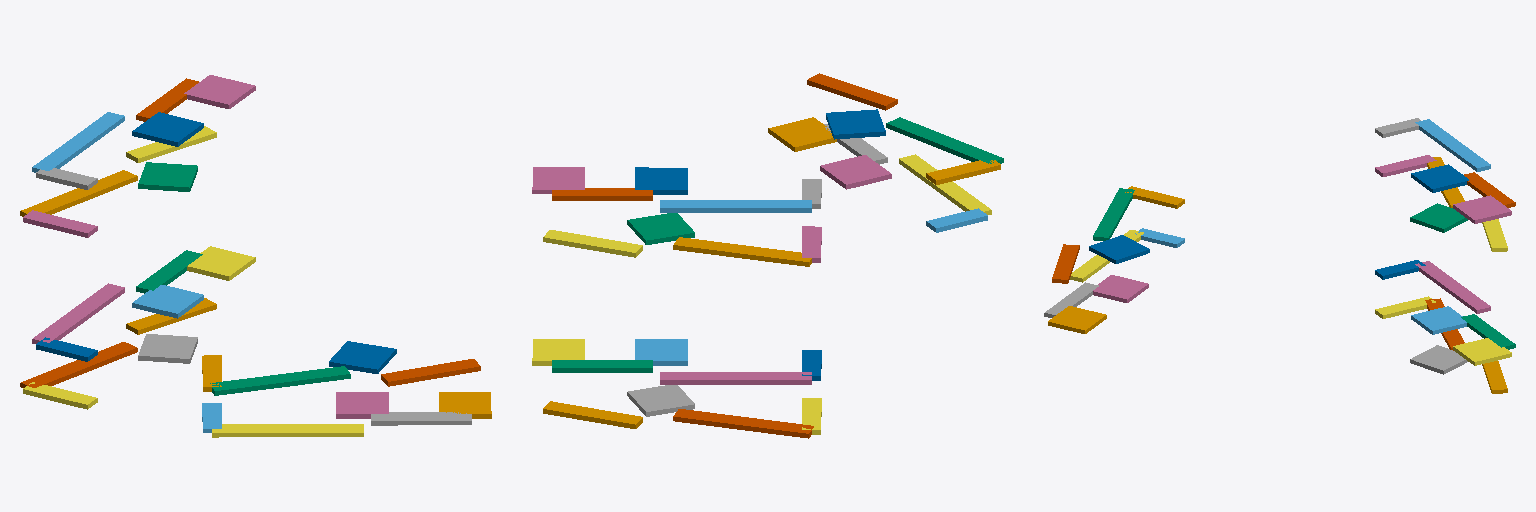
--- What the picture shows (computed from the rendered views, not written in the file) ---
3 views of the same robot in one strip: view 1: azimuth 30°, elevation 25°; view 2: azimuth 150°, elevation 25°; view 3: azimuth 270°, elevation 25° (orthographic).
Model abb_irb120_robotiq with 50 links and 49 joints (45 revolute, 4 fixed), rooted at world, posed all joints at 0.
Visible links, largest first — view 1: robotiq_finger_middle_link_paraproximal_bar, robotiq_finger_middle_link_proximal_actuating_bar, robotiq_finger_1_link_paraproximal_bar, robotiq_finger_2_link_paraproximal_bar, robotiq_finger_2_link_proximal_actuating_bar, robotiq_finger_1_link_paramedian_hinge, robotiq_finger_1_link_proximal_actuating_bar, robotiq_finger_1_link_paradistal_hinge, robotiq_finger_2_link_paramedian_hinge, robotiq_finger_middle_link_median_actuating_hinge, robotiq_finger_2_link_median_actuating_hinge, robotiq_finger_1_link_median_actuating_hinge (+15 smaller); view 2: robotiq_finger_1_link_paraproximal_bar, robotiq_finger_2_link_paraproximal_bar, robotiq_finger_2_link_proximal_actuating_bar, robotiq_finger_1_link_proximal_actuating_bar, robotiq_finger_middle_link_proximal_actuating_bar, robotiq_finger_middle_link_paramedian_hinge, robotiq_finger_1_link_median_actuating_hinge, robotiq_finger_2_link_median_actuating_hinge, robotiq_finger_middle_link_median_actuating_hinge, robotiq_finger_middle_link_paradistal_hinge, robotiq_finger_1_link_paramedian_hinge, robotiq_finger_middle_link_paraproximal_bar (+14 smaller); view 3: robotiq_finger_1_link_paraproximal_bar, robotiq_finger_2_link_paraproximal_bar, robotiq_finger_middle_link_median_actuating_hinge, robotiq_finger_1_link_paradistal_hinge, robotiq_finger_middle_link_paradistal_hinge, robotiq_finger_1_link_paramedian_hinge, robotiq_finger_2_link_paramedian_hinge, robotiq_finger_middle_link_paramedian_hinge, robotiq_finger_2_link_paradistal_hinge, robotiq_finger_1_link_median_actuating_hinge, robotiq_finger_2_link_median_actuating_hinge, robotiq_finger_middle_link_proximal_actuating_bar (+10 smaller).
Boxes of the visible links, x1,y1,x2,y2 form: robotiq_finger_middle_link_paraproximal_bar: (212, 424, 363, 437); robotiq_finger_middle_link_proximal_actuating_bar: (210, 366, 350, 395); robotiq_finger_1_link_paraproximal_bar: (32, 112, 124, 172); robotiq_finger_2_link_paraproximal_bar: (32, 283, 124, 343); robotiq_finger_2_link_proximal_actuating_bar: (20, 342, 137, 387); robotiq_finger_1_link_paramedian_hinge: (132, 112, 203, 146); robotiq_finger_1_link_proximal_actuating_bar: (20, 170, 137, 216); robotiq_finger_1_link_paradistal_hinge: (184, 75, 255, 108); robotiq_finger_2_link_paramedian_hinge: (132, 285, 203, 318); robotiq_finger_middle_link_median_actuating_hinge: (329, 341, 396, 373); robotiq_finger_2_link_median_actuating_hinge: (138, 334, 197, 363); robotiq_finger_1_link_median_actuating_hinge: (138, 162, 197, 191); robotiq_finger_1_link_paraproximal_bar: (660, 200, 811, 212); robotiq_finger_2_link_paraproximal_bar: (660, 372, 811, 384); robotiq_finger_2_link_proximal_actuating_bar: (673, 409, 813, 438); robotiq_finger_1_link_proximal_actuating_bar: (673, 237, 811, 266); robotiq_finger_middle_link_proximal_actuating_bar: (886, 117, 1003, 163); robotiq_finger_middle_link_paramedian_hinge: (820, 155, 891, 189); robotiq_finger_1_link_median_actuating_hinge: (627, 213, 694, 244); robotiq_finger_2_link_median_actuating_hinge: (627, 385, 694, 416); robotiq_finger_middle_link_median_actuating_hinge: (826, 109, 885, 139); robotiq_finger_middle_link_paradistal_hinge: (768, 117, 836, 151); robotiq_finger_1_link_paramedian_hinge: (635, 167, 687, 194); robotiq_finger_middle_link_paraproximal_bar: (899, 154, 991, 214); robotiq_finger_1_link_paraproximal_bar: (1415, 119, 1490, 171); robotiq_finger_2_link_paraproximal_bar: (1415, 261, 1490, 313); robotiq_finger_middle_link_median_actuating_hinge: (1089, 235, 1149, 263); robotiq_finger_1_link_paradistal_hinge: (1453, 195, 1511, 223); robotiq_finger_middle_link_paradistal_hinge: (1048, 306, 1106, 333); robotiq_finger_1_link_paramedian_hinge: (1411, 164, 1468, 192); robotiq_finger_2_link_paramedian_hinge: (1411, 306, 1466, 334); robotiq_finger_middle_link_paramedian_hinge: (1093, 275, 1148, 302); robotiq_finger_2_link_paradistal_hinge: (1453, 338, 1511, 365); robotiq_finger_1_link_median_actuating_hinge: (1410, 203, 1467, 232); robotiq_finger_2_link_median_actuating_hinge: (1410, 345, 1467, 374); robotiq_finger_middle_link_proximal_actuating_bar: (1093, 188, 1134, 240).
Size in the robot's own frame: 0.1145 by 0.2168 by 0.094 metres.
Meshes: 12 distinct files referenced, 0 mesh visuals loaded (none loaded); not drawn: 20 (reference not matched to a file when rendering).

URDF robot description (abb_irb120_robotiq):
<?xml version="1.0" ?>
<!-- =================================================================================== -->
<!-- |    This document was autogenerated by xacro from irb120_robotiq.xacro           | -->
<!-- |    EDITING THIS FILE BY HAND IS NOT RECOMMENDED                                 | -->
<!-- =================================================================================== -->
<robot name="abb_irb120_robotiq" xmlns:xacro="http://www.ros.org/wiki/xacro">
  <link name="robot_base_link">
    <inertial>
      <mass value="6.215"/>
      <origin rpy="0 0 0" xyz="-0.04204 8.01E-05 0.07964"/>
      <inertia ixx="0.0247272" ixy="-8.0784E-05" ixz="0.00130902" iyy="0.0491285" iyz="-8.0419E-06" izz="0.0472376"/>
    </inertial>
    <visual>
      <origin rpy="0 0 0" xyz="0 0 0"/>
      <geometry>
        <mesh filename="package://abb_irb120_support/meshes/irb120/visual/base_link.stl"/>
      </geometry>
      <material name="abb_orange">
        <color rgba="1 0.43 0 1"/>
      </material>
    </visual>
    <collision>
      <origin rpy="0 0 0" xyz="0 0 0"/>
      <geometry>
        <mesh filename="package://abb_irb120_support/meshes/irb120/collision/base_link.stl"/>
      </geometry>
      <material name="yellow">
        <color rgba="0 1 1 1"/>
      </material>
    </collision>
  </link>
  <link name="robot_link_1">
    <inertial>
      <mass value="3.067"/>
      <origin rpy="0 0 0" xyz="9.77E-05 -0.00012 0.23841"/>
      <inertia ixx="0.0142175" ixy="-1.28579E-05" ixz="-2.31364E-05" iyy="0.0144041" iyz="1.93404E-05" izz="0.0104533"/>
    </inertial>
    <visual>
      <origin rpy="0 0 0" xyz="0 0 0"/>
      <geometry>
        <mesh filename="package://abb_irb120_support/meshes/irb120/visual/link_1.stl"/>
      </geometry>
      <material name="abb_orange"/>
    </visual>
    <collision>
      <origin rpy="0 0 0" xyz="0 0 0"/>
      <geometry>
        <mesh filename="package://abb_irb120_support/meshes/irb120/collision/link_1.stl"/>
      </geometry>
      <material name="yellow"/>
    </collision>
  </link>
  <link name="robot_link_2">
    <inertial>
      <mass value="3.909"/>
      <origin rpy="0 0 0" xyz="0.00078 -0.00212 0.10124"/>
      <inertia ixx="0.0603111" ixy="9.83431E-06" ixz="5.72407E-05" iyy="0.041569" iyz="-0.00050497" izz="0.0259548"/>
    </inertial>
    <visual>
      <origin rpy="0 0 0" xyz="0 0 0"/>
      <geometry>
        <mesh filename="package://abb_irb120_support/meshes/irb120/visual/link_2.stl"/>
      </geometry>
      <material name="abb_orange"/>
    </visual>
    <collision>
      <origin rpy="0 0 0" xyz="0 0 0"/>
      <geometry>
        <mesh filename="package://abb_irb120_support/meshes/irb120/collision/link_2.stl"/>
      </geometry>
      <material name="yellow"/>
    </collision>
  </link>
  <link name="robot_link_3">
    <inertial>
      <mass value="2.944"/>
      <origin rpy="0 0 0" xyz="0.02281 0.00106 0.05791"/>
      <inertia ixx="0.00835606" ixy="-8.01545E-05" ixz="0.00142884" iyy="0.016713" iyz="-0.000182227" izz="0.0126984"/>
    </inertial>
    <visual>
      <origin rpy="0 0 0" xyz="0 0 0"/>
      <geometry>
        <mesh filename="package://abb_irb120_support/meshes/irb120/visual/link_3.stl"/>
      </geometry>
      <material name="abb_orange"/>
    </visual>
    <collision>
      <origin rpy="0 0 0" xyz="0 0 0"/>
      <geometry>
        <mesh filename="package://abb_irb120_support/meshes/irb120/collision/link_3.stl"/>
      </geometry>
      <material name="yellow"/>
    </collision>
  </link>
  <link name="robot_link_4">
    <inertial>
      <mass value="1.328"/>
      <origin rpy="0 0 0" xyz="0.2247 0.00015 0.00041"/>
      <inertia ixx="0.00284661" ixy="-2.12765E-05" ixz="-1.6435E-05" iyy="0.00401346" iyz="1.31336E-05" izz="0.0052535"/>
    </inertial>
    <visual>
      <origin rpy="0 0 0" xyz="0 0 0"/>
      <geometry>
        <mesh filename="package://abb_irb120_support/meshes/irb120/visual/link_4.stl"/>
      </geometry>
      <material name="abb_orange"/>
    </visual>
    <collision>
      <origin rpy="0 0 0" xyz="0 0 0"/>
      <geometry>
        <mesh filename="package://abb_irb120_support/meshes/irb120/collision/link_4.stl"/>
      </geometry>
      <material name="yellow"/>
    </collision>
  </link>
  <link name="robot_link_5">
    <inertial>
      <mass value="0.546"/>
      <origin rpy="0 0 0" xyz="-0.00109 3.68E-05 6.22E-05"/>
      <inertia ixx="0.000404891" ixy="1.61943E-06" ixz="8.46805E-07" iyy="0.000892825" iyz="-1.51792E-08" izz="0.000815468"/>
    </inertial>
    <visual>
      <origin rpy="0 0 0" xyz="0 0 0"/>
      <geometry>
        <mesh filename="package://abb_irb120_support/meshes/irb120/visual/link_5.stl"/>
      </geometry>
      <material name="abb_orange"/>
    </visual>
    <collision>
      <origin rpy="0 0 0" xyz="0 0 0"/>
      <geometry>
        <mesh filename="package://abb_irb120_support/meshes/irb120/collision/link_5.stl"/>
      </geometry>
      <material name="yellow"/>
    </collision>
  </link>
  <link name="robot_link_6">
    <inertial>
      <mass value="0.137"/>
      <origin rpy="0 0 0" xyz="-0.00706 -0.00017 -1.32E-06"/>
      <inertia ixx="0.001" ixy="0" ixz="0" iyy="0.001" iyz="0" izz="0.001"/>
    </inertial>
    <visual>
      <origin rpy="0 0 0" xyz="0 0 0"/>
      <geometry>
        <mesh filename="package://abb_irb120_support/meshes/irb120/visual/link_6.stl"/>
      </geometry>
      <material name="black">
        <color rgba="0 0 0 1"/>
      </material>
    </visual>
    <collision>
      <origin rpy="0 0 0" xyz="0 0 0"/>
      <geometry>
        <mesh filename="package://abb_irb120_support/meshes/irb120/collision/link_6.stl"/>
      </geometry>
      <material name="yellow"/>
    </collision>
  </link>
  <link name="robot_tool0"/>
  <joint name="robot_joint_1" type="revolute">
    <origin rpy="0 0 0" xyz="0 0 0"/>
    <parent link="robot_base_link"/>
    <child link="robot_link_1"/>
    <limit effort="100" lower="-2.87979" upper="2.87979" velocity="4.36332"/>
    <axis xyz="0 0 1"/>
    <dynamics damping="0.0" friction="0.0"/>
  </joint>
  <joint name="robot_joint_2" type="revolute">
    <origin rpy="0 0 0" xyz="0 0 0.29"/>
    <parent link="robot_link_1"/>
    <child link="robot_link_2"/>
    <limit effort="100" lower="-1.91986" upper="1.91986" velocity="4.36332"/>
    <axis xyz="0 1 0"/>
    <dynamics damping="0.0" friction="0.0"/>
  </joint>
  <joint name="robot_joint_3" type="revolute">
    <origin rpy="0 0 0" xyz="0 0 0.27"/>
    <parent link="robot_link_2"/>
    <child link="robot_link_3"/>
    <limit effort="100" lower="-1.91986" upper="1.22173" velocity="4.36332"/>
    <axis xyz="0 1 0"/>
    <dynamics damping="0.0" friction="0.0"/>
  </joint>
  <joint name="robot_joint_4" type="revolute">
    <origin rpy="0 0 0" xyz="0 0 0.07"/>
    <parent link="robot_link_3"/>
    <child link="robot_link_4"/>
    <limit effort="30" lower="-2.79253" upper="2.79253" velocity="5.58505"/>
    <axis xyz="1 0 0"/>
    <dynamics damping="0.0" friction="0.0"/>
  </joint>
  <joint name="robot_joint_5" type="revolute">
    <origin rpy="0 0 0" xyz="0.302 0 0"/>
    <parent link="robot_link_4"/>
    <child link="robot_link_5"/>
    <limit effort="30" lower="-2.094395" upper="2.094395" velocity="5.58505"/>
    <axis xyz="0 1 0"/>
    <dynamics damping="0.0" friction="0.0"/>
  </joint>
  <joint name="robot_joint_6" type="revolute">
    <origin rpy="0 0 0" xyz="0.072 0 0"/>
    <parent link="robot_link_5"/>
    <child link="robot_link_6"/>
    <limit effort="30" lower="-6.98132" upper="6.98132" velocity="7.33038"/>
    <axis xyz="1 0 0"/>
    <dynamics damping="0.0" friction="0.0"/>
  </joint>
  <joint name="robot_joint6-tool0" type="fixed">
    <parent link="robot_link_6"/>
    <child link="robot_tool0"/>
    <origin rpy="0 0 0" xyz="0 0 0"/>
  </joint>
  <link name="robot_base"/>
  <joint name="robot_base_link-base" type="fixed">
    <origin rpy="0 0 0" xyz="0 0 0"/>
    <parent link="robot_base_link"/>
    <child link="robot_base"/>
  </joint>
  <transmission name="robot_tran1">
    <type>transmission_interface/SimpleTransmission</type>
    <joint name="robot_joint_1">
      <hardwareInterface>EffortJointInterface</hardwareInterface>
    </joint>
    <actuator name="robot_motor1">
      <hardwareInterface>EffortJointInterface</hardwareInterface>
      <mechanicalReduction>1</mechanicalReduction>
    </actuator>
  </transmission>
  <transmission name="robot_tran2">
    <type>transmission_interface/SimpleTransmission</type>
    <joint name="robot_joint_2">
      <hardwareInterface>EffortJointInterface</hardwareInterface>
    </joint>
    <actuator name="robot_motor2">
      <hardwareInterface>EffortJointInterface</hardwareInterface>
      <mechanicalReduction>1</mechanicalReduction>
    </actuator>
  </transmission>
  <transmission name="robot_tran3">
    <type>transmission_interface/SimpleTransmission</type>
    <joint name="robot_joint_3">
      <hardwareInterface>EffortJointInterface</hardwareInterface>
    </joint>
    <actuator name="robot_motor3">
      <hardwareInterface>EffortJointInterface</hardwareInterface>
      <mechanicalReduction>1</mechanicalReduction>
    </actuator>
  </transmission>
  <transmission name="robot_tran4">
    <type>transmission_interface/SimpleTransmission</type>
    <joint name="robot_joint_4">
      <hardwareInterface>EffortJointInterface</hardwareInterface>
    </joint>
    <actuator name="robot_motor4">
      <hardwareInterface>EffortJointInterface</hardwareInterface>
      <mechanicalReduction>1</mechanicalReduction>
    </actuator>
  </transmission>
  <transmission name="robot_tran5">
    <type>transmission_interface/SimpleTransmission</type>
    <joint name="robot_joint_5">
      <hardwareInterface>EffortJointInterface</hardwareInterface>
    </joint>
    <actuator name="robot_motor5">
      <hardwareInterface>EffortJointInterface</hardwareInterface>
      <mechanicalReduction>1</mechanicalReduction>
    </actuator>
  </transmission>
  <transmission name="robot_tran6">
    <type>transmission_interface/SimpleTransmission</type>
    <joint name="robot_joint_6">
      <hardwareInterface>EffortJointInterface</hardwareInterface>
    </joint>
    <actuator name="robot_motor6">
      <hardwareInterface>EffortJointInterface</hardwareInterface>
      <mechanicalReduction>1</mechanicalReduction>
    </actuator>
  </transmission>
  <gazebo reference="robot_base_link">
    <material>Gazebo/Orange</material>
    <turnGravityOff>true</turnGravityOff>
  </gazebo>
  <gazebo reference="robot_link_1">
    <material>Gazebo/Orange</material>
    <turnGravityOff>true</turnGravityOff>
  </gazebo>
  <gazebo reference="robot_link_2">
    <material>Gazebo/Orange</material>
    <turnGravityOff>true</turnGravityOff>
  </gazebo>
  <gazebo reference="robot_link_3">
    <material>Gazebo/Orange</material>
    <turnGravityOff>true</turnGravityOff>
  </gazebo>
  <gazebo reference="robot_link_4">
    <material>Gazebo/Orange</material>
    <turnGravityOff>true</turnGravityOff>
  </gazebo>
  <gazebo reference="robot_link_5">
    <material>Gazebo/Orange</material>
    <turnGravityOff>true</turnGravityOff>
  </gazebo>
  <gazebo reference="robot_link_6">
    <material>Gazebo/Black</material>
    <turnGravityOff>true</turnGravityOff>
  </gazebo>
  <gazebo>
    <plugin filename="libgazebo_ros_control.so" name="gazebo_ros_control">
      <robotNamespace>/</robotNamespace>
      <robotSimType>gazebo_ros_control/DefaultRobotHWSim</robotSimType>
    </plugin>
  </gazebo>
  <link name="world"/>
  <joint name="robot_fixed" type="fixed">
    <parent link="world"/>
    <child link="robot_base_link"/>
  </joint>
  <joint name="robotiq_robotiq_hand_joint" type="fixed">
    <origin rpy="0 0 -1.57079632679" xyz="0.054 0 0"/>
    <parent link="robot_tool0"/>
    <child link="robotiq_palm"/>
  </joint>
  <link name="robotiq_finger_1_link_0">
    <visual>
      <origin rpy="0 0 0" xyz="0 0 0"/>
      <geometry>
        <mesh filename="package://robotiq_s_model_visualization/meshes/s-model_articulated/visual/link_0.STL"/>
      </geometry>
      <material name="green">
        <color rgba="0 1 0 1"/>
      </material>
    </visual>
    <collision>
      <origin rpy="0 0 0" xyz="0 0 0"/>
      <geometry>
        <mesh filename="package://robotiq_s_model_visualization/meshes/s-model_articulated/collision/link_0.STL"/>
      </geometry>
      <material name="yellow">
        <color rgba="0 1 1 1"/>
      </material>
    </collision>
    <inertial>
      <mass value="0.1"/>
      <origin xyz="-0.01 0 0"/>
      <inertia ixx="0.000018" ixy="0" ixz="0" iyy="0.000025" iyz="0" izz="0.000025"/>
    </inertial>
  </link>
  <gazebo reference="robotiq_finger_1_link_0">
    <mu1>1.1</mu1>
    <mu2>1.1</mu2>
  </gazebo>
  <link name="robotiq_finger_1_link_1">
    <visual>
      <origin rpy="0 0 1.5708" xyz="0 0.05717 0"/>
      <geometry>
        <mesh filename="package://robotiq_s_model_visualization/meshes/s-model_articulated/visual/link_1.STL"/>
      </geometry>
      <material name="green"/>
    </visual>
    <collision>
      <origin rpy="0 0 1.5708" xyz="0 0.05717 0"/>
      <geometry>
        <mesh filename="package://robotiq_s_model_visualization/meshes/s-model_articulated/collision/link_1.STL"/>
      </geometry>
      <material name="yellow">
        <color rgba="0 1 1 1"/>
      </material>
    </collision>
    <inertial>
      <origin rpy="0 0 1.5708" xyz="0.00053 0.03218 0"/>
      <mass value="0.047"/>
      <inertia ixx="0.00000499332" ixy="0.00000091312" ixz="-0.00000000120" iyy="0.00006434531" iyz="-0.00000000007" izz="0.00006061917"/>
    </inertial>
  </link>
  <gazebo reference="robotiq_finger_1_link_1">
    <mu1>1.1</mu1>
    <mu2>1.1</mu2>
  </gazebo>
  <link name="robotiq_finger_1_link_2">
    <visual>
      <origin rpy="0 0 1.5708" xyz="0 0.03810 0.0075"/>
      <geometry>
        <mesh filename="package://robotiq_s_model_visualization/meshes/s-model_articulated/visual/link_2.STL"/>
      </geometry>
      <material name="green"/>
    </visual>
    <collision>
      <origin rpy="0 0 1.5708" xyz="0 0.03810 0.0075"/>
      <geometry>
        <mesh filename="package://robotiq_s_model_visualization/meshes/s-model_articulated/collision/link_2.STL"/>
      </geometry>
      <material name="yellow"/>
    </collision>
    <inertial>
      <origin rpy="0 0 1.5708" xyz="0.00048 0.02167 0.00018"/>
      <mass value="0.03284"/>
      <inertia ixx="0.00000348008" ixy="0.00000031940" ixz="0.00000013041" iyy="0.00002248123" iyz="0.00000000291" izz="0.00001986346"/>
    </inertial>
  </link>
  <gazebo reference="robotiq_finger_1_link_2">
    <mu1>1.1</mu1>
    <mu2>1.1</mu2>
  </gazebo>
  <link name="robotiq_finger_1_link_3">
    <visual>
      <origin rpy="0 0 0" xyz="0 0 0"/>
      <geometry>
        <mesh filename="package://robotiq_s_model_visualization/meshes/s-model_articulated/visual/link_3.STL"/>
      </geometry>
      <material name="green"/>
    </visual>
    <collision>
      <origin rpy="0 0 0" xyz="0 0 0"/>
      <geometry>
        <mesh filename="package://robotiq_s_model_visualization/meshes/s-model_articulated/collision/link_3.STL"/>
      </geometry>
      <material name="yellow"/>
    </collision>
    <inertial>
      <origin rpy="0 0 0" xyz="0.01626 0.00049 0.0002"/>
      <mass value="0.03354"/>
      <inertia ixx="0.00000305151" ixy="0.00000089792" ixz="0.00000000249" iyy="0.00001427978" iyz="-0.00000001191" izz="0.00001264126"/>
    </inertial>
  </link>
  <gazebo reference="robotiq_finger_1_link_3">
    <mu1>1.1</mu1>
    <mu2>1.1</mu2>
  </gazebo>
  <link name="robotiq_finger_1_link_proximal_actuating_hinge">
    <visual>
      <origin rpy="0 0 0" xyz="0.01429 0 0"/>
      <geometry>
        <box size="0.02858 .0075 .002"/>
      </geometry>
    </visual>
    <collision>
      <origin rpy="0 0 0" xyz="0.01429 0 0"/>
      <geometry>
        <box size="0.02858 .0075 .002"/>
      </geometry>
    </collision>
    <inertial>
      <origin rpy="0 0 0" xyz="0.0012 -0.00162 -0.00161"/>
      <mass value="0.02647"/>
      <inertia ixx="0.00000156447" ixy="0.000000236226" ixz="-0.00000014862" iyy="0.00000221068" iyz="-0.00000014369" izz="0.00000323175"/>
    </inertial>
  </link>
  <gazebo reference="robotiq_finger_1_link_proximal_actuating_hinge">
    <mu1>1.1</mu1>
    <mu2>1.1</mu2>
  </gazebo>
  <link name="robotiq_finger_1_link_paraproximal_actuating_hinge">
    <visual>
      <origin rpy="0 0 0" xyz="0.01143 0 0"/>
      <geometry>
        <box size="0.02286 .0075 .002"/>
      </geometry>
    </visual>
    <collision>
      <origin rpy="0 0 0" xyz="0.01143 0 0"/>
      <geometry>
        <box size="0.02286 .0075 .002"/>
      </geometry>
    </collision>
    <inertial>
      <origin rpy="0 0 0" xyz="0.0064 0 0"/>
      <!-- copied from proximal_actuating_hinge -->
      <mass value="0.00362"/>
      <inertia ixx="0.00000012043" ixy="0" ixz="0" iyy="0.00000053588" iyz="0" izz="0.00000065322"/>
    </inertial>
  </link>
  <gazebo reference="robotiq_finger_1_link_paraproximal_actuating_hinge">
    <mu1>1.1</mu1>
    <mu2>1.1</mu2>
  </gazebo>
  <link name="robotiq_finger_1_link_proximal_actuating_bar">
    <visual>
      <origin rpy="0 0 0" xyz="0.026789 0 0"/>
      <geometry>
        <box size="0.05398 .0075 .002"/>
      </geometry>
    </visual>
    <collision>
      <origin rpy="0 0 0" xyz="0.026789 0 0"/>
      <geometry>
        <box size="0.05398 .0075 .002"/>
      </geometry>
    </collision>
    <inertial>
      <origin rpy="0 0 0" xyz="0.02699 -0.00122 0"/>
      <mass value="0.00659"/>
      <inertia ixx="0.00000008348" ixy="-0.0000002179" ixz="0.00000000134" iyy="0.00000719076" iyz="0" izz="0.00000718272"/>
    </inertial>
  </link>
  <gazebo reference="robotiq_finger_1_link_proximal_actuating_bar">
    <mu1>1.1</mu1>
    <mu2>1.1</mu2>
  </gazebo>
  <link name="robotiq_finger_1_link_paraproximal_bar">
    <visual>
      <origin rpy="0 0 0" xyz="0.02885 0 0"/>
      <geometry>
        <box size="0.05770 .0075 .002"/>
      </geometry>
    </visual>
    <collision>
      <origin rpy="0 0 0" xyz="0.02885 0 0"/>
      <geometry>
        <box size="0.05770 .0075 .002"/>
      </geometry>
    </collision>
    <inertial>
      <origin rpy="0 0 0" xyz="0.02858 -0.00129 0"/>
      <mass value="0.00732"/>
      <inertia ixx="0.00000009065" ixy="-0.00000027047" ixz="0.00000000142" iyy="0.00000878034" iyz="0" izz="0.00000877558"/>
    </inertial>
  </link>
  <gazebo reference="robotiq_finger_1_link_paraproximal_bar">
    <mu1>1.1</mu1>
    <mu2>1.1</mu2>
  </gazebo>
  <link name="robotiq_finger_1_link_median_actuating_hinge">
    <visual>
      <origin rpy="0 0 0" xyz="0 0 0"/>
      <geometry>
        <box size=".02 .02 .002"/>
      </geometry>
    </visual>
    <collision>
      <origin rpy="0 0 0" xyz="0 0 0"/>
      <geometry>
        <box size=".02 .02 .002"/>
      </geometry>
    </collision>
    <inertial>
      <origin rpy="0 0 0" xyz="0.0092 0.00514 0"/>
      <mass value="0.00359"/>
      <inertia ixx="0.00000024735" ixy="0.00000023619" ixz="0" iyy="0.00000047681" iyz="0" izz="0.00000071813"/>
    </inertial>
  </link>
  <gazebo reference="robotiq_finger_1_link_median_actuating_hinge">
    <mu1>1.1</mu1>
    <mu2>1.1</mu2>
  </gazebo>
  <link name="robotiq_finger_1_link_median_bar">
    <visual>
      <origin rpy="0 0 0" xyz="0.01905 0 0"/>
      <geometry>
        <box size="0.0381 .0075 .002"/>
      </geometry>
    </visual>
    <collision>
      <origin rpy="0 0 0" xyz="0.01905 0 0"/>
      <geometry>
        <box size="0.0381 .0075 .002"/>
      </geometry>
    </collision>
    <inertial>
      <origin rpy="0 0 0" xyz="0.01905 -0.00107 0"/>
      <mass value="0.00538"/>
      <inertia ixx="0.00000006639" ixy="-0.00000010996" ixz="0.00000000094" iyy="0.00000305318" iyz="0" izz="0.00000304657"/>
    </inertial>
  </link>
  <gazebo reference="robotiq_finger_1_link_median_bar">
    <mu1>1.1</mu1>
    <mu2>1.1</mu2>
  </gazebo>
  <link name="robotiq_finger_1_link_paramedian_hinge">
    <visual>
      <origin rpy="0 0 0" xyz="0 0 0"/>
      <geometry>
        <box size=".02 .02 .002"/>
      </geometry>
    </visual>
    <collision>
      <origin rpy="0 0 0" xyz="0 0 0"/>
      <geometry>
        <box size=".02 .02 .002"/>
      </geometry>
    </collision>
    <inertial>
      <origin rpy="0 0 0" xyz="-0.01025 0.00046 0"/>
      <mass value="0.00276"/>
      <inertia ixx="0.00000004213" ixy="-0.00000001491" ixz="0" iyy="0.00000050258" iyz="0" izz="0.00000054007"/>
    </inertial>
  </link>
  <gazebo reference="robotiq_finger_1_link_paramedian_hinge">
    <mu1>1.1</mu1>
    <mu2>1.1</mu2>
  </gazebo>
  <link name="robotiq_finger_1_link_median_bar_underactuated">
    <visual>
      <origin rpy="0 0 0" xyz="0.01905 0 0"/>
      <geometry>
        <box size="0.0381 .0075 .002"/>
      </geometry>
    </visual>
    <collision>
      <origin rpy="0 0 0" xyz="0.01905 0 0"/>
      <geometry>
        <box size="0.0381 .0075 .002"/>
      </geometry>
    </collision>
    <inertial>
      <origin rpy="0 0 0" xyz="0.01905 -0.00107 0"/>
      <mass value="0.00538"/>
      <inertia ixx="0.00000006639" ixy="-0.00000010996" ixz="-0.00000000094" iyy="0.00000305318" iyz="0" izz="0.00000304657"/>
    </inertial>
  </link>
  <gazebo reference="robotiq_finger_1_link_median_bar_underactuated">
    <mu1>1.1</mu1>
    <mu2>1.1</mu2>
  </gazebo>
  <link name="robotiq_finger_1_link_paradistal_hinge">
    <visual>
      <origin rpy="0 0 0" xyz="0 0 0"/>
      <geometry>
        <box size=".02 .02 .002"/>
      </geometry>
    </visual>
    <collision>
      <origin rpy="0 0 0" xyz="0 0 0"/>
      <geometry>
        <box size=".02 0.02 .002"/>
      </geometry>
    </collision>
    <inertial>
      <origin rpy="0 0 0" xyz="0.00548 0 0"/>
      <mass value="0.00158"/>
      <inertia ixx="0.00000001907" ixy="0" ixz="0" iyy="0.00000010970" iyz="0" izz="0.00000012610"/>
    </inertial>
  </link>
  <gazebo reference="robotiq_finger_1_link_paradistal_hinge">
    <mu1>1.1</mu1>
    <mu2>1.1</mu2>
  </gazebo>
  <joint name="robotiq_finger_1_joint_proximal_actuating_hinge" type="revolute">
    <parent link="robotiq_finger_1_link_0"/>
    <child link="robotiq_finger_1_link_proximal_actuating_hinge"/>
    <axis xyz="0 0 1"/>
    <origin rpy="0 0 -2.0906" xyz="0 0 0.01"/>
    <limit effort="100" lower="-3.1416" upper="3.1416" velocity="100"/>
  </joint>
  <gazebo reference="robotiq_finger_1_joint_proximal_actuating_hinge">
    <implicitSpringDamper>1</implicitSpringDamper>
  </gazebo>
  <joint name="robotiq_finger_1_joint_paraproximal_actuating_hinge" type="revolute">
    <parent link="robotiq_finger_1_link_0"/>
    <child link="robotiq_finger_1_link_paraproximal_actuating_hinge"/>
    <axis xyz="0 0 1"/>
    <origin rpy="0 0 -2.0906" xyz="0 0 -0.01"/>
    <limit effort="100" lower="-3.1416" upper="3.1416" velocity="100"/>
  </joint>
  <gazebo reference="robotiq_finger_1_joint_paraproximal_actuating_hinge">
    <implicitSpringDamper>1</implicitSpringDamper>
  </gazebo>
  <joint name="robotiq_finger_1_joint_proximal_actuating_bar" type="revolute">
    <parent link="robotiq_finger_1_link_proximal_actuating_hinge"/>
    <child link="robotiq_finger_1_link_proximal_actuating_bar"/>
    <axis xyz="0 0 1"/>
    <origin rpy="0 0 1.8616" xyz="0.02858 0 0"/>
    <limit effort="100" lower="-3.1416" upper="3.1416" velocity="100"/>
  </joint>
  <gazebo reference="robotiq_finger_1_joint_proximal_actuating_bar">
    <implicitSpringDamper>1</implicitSpringDamper>
  </gazebo>
  <joint name="robotiq_finger_1_joint_paraproximal_bar" type="revolute">
    <parent link="robotiq_finger_1_link_paraproximal_actuating_hinge"/>
    <child link="robotiq_finger_1_link_paraproximal_bar"/>
    <axis xyz="0 0 1"/>
    <origin rpy="0 0 1.57" xyz="0.02286 0 0"/>
    <limit effort="100" lower="-3.1416" upper="3.1416" velocity="100"/>
  </joint>
  <gazebo reference="robotiq_finger_1_joint_paraproximal_bar">
    <implicitSpringDamper>1</implicitSpringDamper>
  </gazebo>
  <joint name="robotiq_finger_1_joint_median_actuating_hinge" type="revolute">
    <parent link="robotiq_finger_1_link_1"/>
    <child link="robotiq_finger_1_link_median_actuating_hinge"/>
    <axis xyz="0 0 1"/>
    <origin rpy="0 0 -0.37" xyz="0 0.05715 0.01"/>
    <limit effort="100" lower="-3.1416" upper="3.1416" velocity="100"/>
  </joint>
  <gazebo reference="robotiq_finger_1_joint_median_actuating_hinge">
    <implicitSpringDamper>1</implicitSpringDamper>
  </gazebo>
  <joint name="robotiq_finger_1_joint_paramedian_hinge" type="revolute">
    <parent link="robotiq_finger_1_link_1"/>
    <child link="robotiq_finger_1_link_paramedian_hinge"/>
    <axis xyz="0 0 1"/>
    <!-- -0.37 is hand picked, 0.9719 is hand calculated from atan(0.02381/0.01625) -->
    <origin rpy="0 0 0" xyz="0 0.05715 -0.01"/>
    <limit effort="100" lower="-3.1416" upper="3.1416" velocity="100"/>
  </joint>
  <gazebo reference="robotiq_finger_1_joint_paramedian_hinge">
    <implicitSpringDamper>1</implicitSpringDamper>
  </gazebo>
  <joint name="robotiq_finger_1_joint_median_actuating_hinge_median_bar" type="revolute">
    <parent link="robotiq_finger_1_link_median_actuating_hinge"/>
    <child link="robotiq_finger_1_link_median_bar"/>
    <axis xyz="0 0 1"/>
    <!-- hand calc 90 deg + atan(0.01516/0.01625) -->
    <origin rpy="0 0 2.3215" xyz="0.01625 0.01516 0"/>
    <limit effort="100" lower="-3.1416" upper="3.1416" velocity="100"/>
  </joint>
  <gazebo reference="robotiq_finger_1_joint_median_actuating_hinge_median_bar">
    <implicitSpringDamper>1</implicitSpringDamper>
  </gazebo>
  <joint name="robotiq_finger_1_joint_paradistal_hinge" type="revolute">
    <parent link="robotiq_finger_1_link_2"/>
    <child link="robotiq_finger_1_link_paradistal_hinge"/>
    <axis xyz="0 0 1"/>
    <origin rpy="0 0 0" xyz="0 0.039 -0.01"/>
    <limit effort="100" lower="-3.1416" upper="3.1416" velocity="100"/>
  </joint>
  <gazebo reference="robotiq_finger_1_joint_paradistal_hinge">
    <implicitSpringDamper>1</implicitSpringDamper>
  </gazebo>
  <joint name="robotiq_finger_1_joint_paramedian_hinge_median_bar_underactuated" type="revolute">
    <parent link="robotiq_finger_1_link_paramedian_hinge"/>
    <child link="robotiq_finger_1_link_median_bar_underactuated"/>
    <axis xyz="0 0 1"/>
    <!-- hand calc 90 deg + atan(0.01227/0.00329) -->
    <origin rpy="0 0 1.5708" xyz="0.01227 0.00329 0"/>
    <limit effort="100" lower="-3.1416" upper="3.1416" velocity="100"/>
  </joint>
  <gazebo reference="robotiq_finger_1_joint_paramedian_hinge_median_bar_underactuated">
    <implicitSpringDamper>1</implicitSpringDamper>
  </gazebo>
  <joint name="robotiq_finger_1_joint_1" type="revolute">
    <origin rpy="0 0 -2.0906" xyz="0 0 0"/>
    <axis xyz="0 0 1"/>
    <parent link="robotiq_finger_1_link_0"/>
    <child link="robotiq_finger_1_link_1"/>
    <dynamics damping="1" friction="0"/>
    <!-- Limits: [0deg.,70deg.] -->
    <limit effort="60" lower="0" upper="1.2217" velocity="-1"/>
  </joint>
  <gazebo reference="robotiq_finger_1_joint_1">
    <implicitSpringDamper>1</implicitSpringDamper>
  </gazebo>
  <joint name="robotiq_finger_1_joint_2" type="revolute">
    <parent link="robotiq_finger_1_link_1"/>
    <child link="robotiq_finger_1_link_2"/>
    <dynamics damping="1" friction="0"/>
    <axis xyz="0 0 1"/>
    <origin rpy="0 0 0" xyz="0 0.05715 0"/>
    <!-- Limits: [0deg.,90deg.] -->
    <limit effort="60" lower="0" upper="1.5708" velocity="-1"/>
  </joint>
  <gazebo reference="robotiq_finger_1_joint_2">
    <implicitSpringDamper>1</implicitSpringDamper>
  </gazebo>
  <joint name="robotiq_finger_1_joint_3" type="revolute">
    <parent link="robotiq_finger_1_link_2"/>
    <child link="robotiq_finger_1_link_3"/>
    <dynamics damping="1" friction="0"/>
    <axis xyz="0 0 1"/>
    <origin rpy="0 0 2.0906" xyz="0 0.039 0"/>
    <!-- Limits: [-38deg.,60deg.] -->
    <limit effort="60" lower="-0.6632" upper="1.0471" velocity="-1"/>
  </joint>
  <gazebo reference="robotiq_finger_1_joint_3">
    <implicitSpringDamper>1</implicitSpringDamper>
  </gazebo>
  <gazebo>
    <joint name="robotiq_finger_1_link_proximal_actuating_bar_median_actuating_hinge_couple" type="revolute">
      <parent>robotiq_finger_1_link_median_actuating_hinge</parent>
      <child>robotiq_finger_1_link_proximal_actuating_bar</child>
      <pose>0.05398 0 0 0 0 0</pose>
      <axis>
        <dynamics>
          <damping>0</damping>
          <friction>0</friction>
        </dynamics>
        <xyz>0 0 1</xyz>
        <!-- <use_parent_model_frame>false</use_parent_model_frame> -->
      </axis>
    </joint>
  </gazebo>
  <gazebo reference="robotiq_finger_1_link_proximal_actuating_bar_median_actuating_hinge_couple">
    <implicitSpringDamper>1</implicitSpringDamper>
  </gazebo>
  <gazebo>
    <joint name="robotiq_finger_1_link_median_bar_link_3_couple" type="revolute">
      <parent>robotiq_finger_1_link_3</parent>
      <child>robotiq_finger_1_link_median_bar</child>
      <pose>0.0381 0 0 0 0 0</pose>
      <axis>
        <dynamics>
          <damping>0</damping>
          <friction>0</friction>
        </dynamics>
        <xyz>0 0 1</xyz>
        <!-- <use_parent_model_frame>false</use_parent_model_frame> -->
      </axis>
    </joint>
  </gazebo>
  <gazebo reference="robotiq_finger_1_link_median_bar_link_3_couple">
    <implicitSpringDamper>1</implicitSpringDamper>
  </gazebo>
  <gazebo>
    <joint name="robotiq_finger_1_link_paramedian_bar_paradistal_hinge_couple" type="revolute">
      <parent>robotiq_finger_1_link_paradistal_hinge</parent>
      <child>robotiq_finger_1_link_median_bar_underactuated</child>
      <pose>0.0381 0 0 0 0 0</pose>
      <axis>
        <dynamics>
          <damping>0</damping>
          <friction>0</friction>
        </dynamics>
        <xyz>0 0 1</xyz>
        <!-- <use_parent_model_frame>false</use_parent_model_frame> -->
      </axis>
    </joint>
  </gazebo>
  <gazebo reference="robotiq_finger_1_link_median_bar_link_3_couple">
    <implicitSpringDamper>1</implicitSpringDamper>
  </gazebo>
  <gazebo>
    <joint name="robotiq_finger_1_link_paradistal_hinge_link_3_couple" type="revolute">
      <parent>robotiq_finger_1_link_paradistal_hinge</parent>
      <child>robotiq_finger_1_link_3</child>
      <pose>0.0381 0 0 0 0 0</pose>
      <axis>
        <dynamics>
          <damping>0</damping>
          <friction>0</friction>
        </dynamics>
        <xyz>0 0 1</xyz>
        <!-- <use_parent_model_frame>false</use_parent_model_frame> -->
      </axis>
    </joint>
  </gazebo>
  <gazebo reference="robotiq_finger_1_link_paradistal_hinge_link_3_couple">
    <implicitSpringDamper>1</implicitSpringDamper>
  </gazebo>
  <gazebo>
    <joint name="robotiq_finger_1_link_paraproximal_bar_paramedian_hinge_couple" type="revolute">
      <parent>robotiq_finger_1_link_paramedian_hinge</parent>
      <child>robotiq_finger_1_link_paraproximal_bar</child>
      <pose>0.05770 0 0 0 0 0</pose>
      <axis>
        <dynamics>
          <damping>0</damping>
          <friction>0</friction>
        </dynamics>
        <xyz>0 0 1</xyz>
        <!-- <use_parent_model_frame>false</use_parent_model_frame> -->
      </axis>
    </joint>
  </gazebo>
  <gazebo reference="robotiq_finger_1_link_paraproximal_bar_paramedian_hinge_couple">
    <implicitSpringDamper>1</implicitSpringDamper>
  </gazebo>
  <link name="robotiq_finger_2_link_0">
    <visual>
      <origin rpy="0 0 0" xyz="0 0 0"/>
      <geometry>
        <mesh filename="package://robotiq_s_model_visualization/meshes/s-model_articulated/visual/link_0.STL"/>
      </geometry>
      <material name="green">
        <color rgba="0 1 0 1"/>
      </material>
    </visual>
    <collision>
      <origin rpy="0 0 0" xyz="0 0 0"/>
      <geometry>
        <mesh filename="package://robotiq_s_model_visualization/meshes/s-model_articulated/collision/link_0.STL"/>
      </geometry>
      <material name="yellow">
        <color rgba="0 1 1 1"/>
      </material>
    </collision>
    <inertial>
      <mass value="0.1"/>
      <origin xyz="-0.01 0 0"/>
      <inertia ixx="0.000018" ixy="0" ixz="0" iyy="0.000025" iyz="0" izz="0.000025"/>
    </inertial>
  </link>
  <gazebo reference="robotiq_finger_2_link_0">
    <mu1>1.1</mu1>
    <mu2>1.1</mu2>
  </gazebo>
  <link name="robotiq_finger_2_link_1">
    <visual>
      <origin rpy="0 0 1.5708" xyz="0 0.05717 0"/>
      <geometry>
        <mesh filename="package://robotiq_s_model_visualization/meshes/s-model_articulated/visual/link_1.STL"/>
      </geometry>
      <material name="green"/>
    </visual>
    <collision>
      <origin rpy="0 0 1.5708" xyz="0 0.05717 0"/>
      <geometry>
        <mesh filename="package://robotiq_s_model_visualization/meshes/s-model_articulated/collision/link_1.STL"/>
      </geometry>
      <material name="yellow">
        <color rgba="0 1 1 1"/>
      </material>
    </collision>
    <inertial>
      <origin rpy="0 0 1.5708" xyz="0.00053 0.03218 0"/>
      <mass value="0.047"/>
      <inertia ixx="0.00000499332" ixy="0.00000091312" ixz="-0.00000000120" iyy="0.00006434531" iyz="-0.00000000007" izz="0.00006061917"/>
    </inertial>
  </link>
  <gazebo reference="robotiq_finger_2_link_1">
    <mu1>1.1</mu1>
    <mu2>1.1</mu2>
  </gazebo>
  <link name="robotiq_finger_2_link_2">
    <visual>
      <origin rpy="0 0 1.5708" xyz="0 0.03810 0.0075"/>
      <geometry>
        <mesh filename="package://robotiq_s_model_visualization/meshes/s-model_articulated/visual/link_2.STL"/>
      </geometry>
      <material name="green"/>
    </visual>
    <collision>
      <origin rpy="0 0 1.5708" xyz="0 0.03810 0.0075"/>
      <geometry>
        <mesh filename="package://robotiq_s_model_visualization/meshes/s-model_articulated/collision/link_2.STL"/>
      </geometry>
      <material name="yellow"/>
    </collision>
    <inertial>
      <origin rpy="0 0 1.5708" xyz="0.00048 0.02167 0.00018"/>
      <mass value="0.03284"/>
      <inertia ixx="0.00000348008" ixy="0.00000031940" ixz="0.00000013041" iyy="0.00002248123" iyz="0.00000000291" izz="0.00001986346"/>
    </inertial>
  </link>
  <gazebo reference="robotiq_finger_2_link_2">
    <mu1>1.1</mu1>
    <mu2>1.1</mu2>
  </gazebo>
  <link name="robotiq_finger_2_link_3">
    <visual>
      <origin rpy="0 0 0" xyz="0 0 0"/>
      <geometry>
        <mesh filename="package://robotiq_s_model_visualization/meshes/s-model_articulated/visual/link_3.STL"/>
      </geometry>
      <material name="green"/>
    </visual>
    <collision>
      <origin rpy="0 0 0" xyz="0 0 0"/>
      <geometry>
        <mesh filename="package://robotiq_s_model_visualization/meshes/s-model_articulated/collision/link_3.STL"/>
      </geometry>
      <material name="yellow"/>
    </collision>
    <inertial>
      <origin rpy="0 0 0" xyz="0.01626 0.00049 0.0002"/>
      <mass value="0.03354"/>
      <inertia ixx="0.00000305151" ixy="0.00000089792" ixz="0.00000000249" iyy="0.00001427978" iyz="-0.00000001191" izz="0.00001264126"/>
    </inertial>
  </link>
  <gazebo reference="robotiq_finger_2_link_3">
    <mu1>1.1</mu1>
    <mu2>1.1</mu2>
  </gazebo>
  <link name="robotiq_finger_2_link_proximal_actuating_hinge">
    <visual>
      <origin rpy="0 0 0" xyz="0.01429 0 0"/>
      <geometry>
        <box size="0.02858 .0075 .002"/>
      </geometry>
    </visual>
    <collision>
      <origin rpy="0 0 0" xyz="0.01429 0 0"/>
      <geometry>
        <box size="0.02858 .0075 .002"/>
      </geometry>
    </collision>
    <inertial>
      <origin rpy="0 0 0" xyz="0.0012 -0.00162 -0.00161"/>
      <mass value="0.02647"/>
      <inertia ixx="0.00000156447" ixy="0.000000236226" ixz="-0.00000014862" iyy="0.00000221068" iyz="-0.00000014369" izz="0.00000323175"/>
    </inertial>
  </link>
  <gazebo reference="robotiq_finger_2_link_proximal_actuating_hinge">
    <mu1>1.1</mu1>
    <mu2>1.1</mu2>
  </gazebo>
  <link name="robotiq_finger_2_link_paraproximal_actuating_hinge">
    <visual>
      <origin rpy="0 0 0" xyz="0.01143 0 0"/>
      <geometry>
        <box size="0.02286 .0075 .002"/>
      </geometry>
    </visual>
    <collision>
      <origin rpy="0 0 0" xyz="0.01143 0 0"/>
      <geometry>
        <box size="0.02286 .0075 .002"/>
      </geometry>
    </collision>
    <inertial>
      <origin rpy="0 0 0" xyz="0.0064 0 0"/>
      <!-- copied from proximal_actuating_hinge -->
      <mass value="0.00362"/>
      <inertia ixx="0.00000012043" ixy="0" ixz="0" iyy="0.00000053588" iyz="0" izz="0.00000065322"/>
    </inertial>
  </link>
  <gazebo reference="robotiq_finger_2_link_paraproximal_actuating_hinge">
    <mu1>1.1</mu1>
    <mu2>1.1</mu2>
  </gazebo>
  <link name="robotiq_finger_2_link_proximal_actuating_bar">
    <visual>
      <origin rpy="0 0 0" xyz="0.026789 0 0"/>
      <geometry>
        <box size="0.05398 .0075 .002"/>
      </geometry>
    </visual>
    <collision>
      <origin rpy="0 0 0" xyz="0.026789 0 0"/>
      <geometry>
        <box size="0.05398 .0075 .002"/>
      </geometry>
    </collision>
    <inertial>
      <origin rpy="0 0 0" xyz="0.02699 -0.00122 0"/>
      <mass value="0.00659"/>
      <inertia ixx="0.00000008348" ixy="-0.0000002179" ixz="0.00000000134" iyy="0.00000719076" iyz="0" izz="0.00000718272"/>
    </inertial>
  </link>
  <gazebo reference="robotiq_finger_2_link_proximal_actuating_bar">
    <mu1>1.1</mu1>
    <mu2>1.1</mu2>
  </gazebo>
  <link name="robotiq_finger_2_link_paraproximal_bar">
    <visual>
      <origin rpy="0 0 0" xyz="0.02885 0 0"/>
      <geometry>
        <box size="0.05770 .0075 .002"/>
      </geometry>
    </visual>
    <collision>
      <origin rpy="0 0 0" xyz="0.02885 0 0"/>
      <geometry>
        <box size="0.05770 .0075 .002"/>
      </geometry>
    </collision>
    <inertial>
      <origin rpy="0 0 0" xyz="0.02858 -0.00129 0"/>
      <mass value="0.00732"/>
      <inertia ixx="0.00000009065" ixy="-0.00000027047" ixz="0.00000000142" iyy="0.00000878034" iyz="0" izz="0.00000877558"/>
    </inertial>
  </link>
  <gazebo reference="robotiq_finger_2_link_paraproximal_bar">
    <mu1>1.1</mu1>
    <mu2>1.1</mu2>
  </gazebo>
  <link name="robotiq_finger_2_link_median_actuating_hinge">
    <visual>
      <origin rpy="0 0 0" xyz="0 0 0"/>
      <geometry>
        <box size=".02 .02 .002"/>
      </geometry>
    </visual>
    <collision>
      <origin rpy="0 0 0" xyz="0 0 0"/>
      <geometry>
        <box size=".02 .02 .002"/>
      </geometry>
    </collision>
    <inertial>
      <origin rpy="0 0 0" xyz="0.0092 0.00514 0"/>
      <mass value="0.00359"/>
      <inertia ixx="0.00000024735" ixy="0.00000023619" ixz="0" iyy="0.00000047681" iyz="0" izz="0.00000071813"/>
    </inertial>
  </link>
  <gazebo reference="robotiq_finger_2_link_median_actuating_hinge">
    <mu1>1.1</mu1>
    <mu2>1.1</mu2>
  </gazebo>
  <link name="robotiq_finger_2_link_median_bar">
    <visual>
      <origin rpy="0 0 0" xyz="0.01905 0 0"/>
      <geometry>
        <box size="0.0381 .0075 .002"/>
      </geometry>
    </visual>
    <collision>
      <origin rpy="0 0 0" xyz="0.01905 0 0"/>
      <geometry>
        <box size="0.0381 .0075 .002"/>
      </geometry>
    </collision>
    <inertial>
      <origin rpy="0 0 0" xyz="0.01905 -0.00107 0"/>
      <mass value="0.00538"/>
      <inertia ixx="0.00000006639" ixy="-0.00000010996" ixz="0.00000000094" iyy="0.00000305318" iyz="0" izz="0.00000304657"/>
    </inertial>
  </link>
  <gazebo reference="robotiq_finger_2_link_median_bar">
    <mu1>1.1</mu1>
    <mu2>1.1</mu2>
  </gazebo>
  <link name="robotiq_finger_2_link_paramedian_hinge">
    <visual>
      <origin rpy="0 0 0" xyz="0 0 0"/>
      <geometry>
        <box size=".02 .02 .002"/>
      </geometry>
    </visual>
    <collision>
      <origin rpy="0 0 0" xyz="0 0 0"/>
      <geometry>
        <box size=".02 .02 .002"/>
      </geometry>
    </collision>
    <inertial>
      <origin rpy="0 0 0" xyz="-0.01025 0.00046 0"/>
      <mass value="0.00276"/>
      <inertia ixx="0.00000004213" ixy="-0.00000001491" ixz="0" iyy="0.00000050258" iyz="0" izz="0.00000054007"/>
    </inertial>
  </link>
  <gazebo reference="robotiq_finger_2_link_paramedian_hinge">
    <mu1>1.1</mu1>
    <mu2>1.1</mu2>
  </gazebo>
  <link name="robotiq_finger_2_link_median_bar_underactuated">
    <visual>
      <origin rpy="0 0 0" xyz="0.01905 0 0"/>
      <geometry>
        <box size="0.0381 .0075 .002"/>
      </geometry>
    </visual>
    <collision>
      <origin rpy="0 0 0" xyz="0.01905 0 0"/>
      <geometry>
        <box size="0.0381 .0075 .002"/>
      </geometry>
    </collision>
    <inertial>
      <origin rpy="0 0 0" xyz="0.01905 -0.00107 0"/>
      <mass value="0.00538"/>
      <inertia ixx="0.00000006639" ixy="-0.00000010996" ixz="-0.00000000094" iyy="0.00000305318" iyz="0" izz="0.00000304657"/>
    </inertial>
  </link>
  <gazebo reference="robotiq_finger_2_link_median_bar_underactuated">
    <mu1>1.1</mu1>
    <mu2>1.1</mu2>
  </gazebo>
  <link name="robotiq_finger_2_link_paradistal_hinge">
    <visual>
      <origin rpy="0 0 0" xyz="0 0 0"/>
      <geometry>
        <box size=".02 .02 .002"/>
      </geometry>
    </visual>
    <collision>
      <origin rpy="0 0 0" xyz="0 0 0"/>
      <geometry>
        <box size=".02 0.02 .002"/>
      </geometry>
    </collision>
    <inertial>
      <origin rpy="0 0 0" xyz="0.00548 0 0"/>
      <mass value="0.00158"/>
      <inertia ixx="0.00000001907" ixy="0" ixz="0" iyy="0.00000010970" iyz="0" izz="0.00000012610"/>
    </inertial>
  </link>
  <gazebo reference="robotiq_finger_2_link_paradistal_hinge">
    <mu1>1.1</mu1>
    <mu2>1.1</mu2>
  </gazebo>
  <joint name="robotiq_finger_2_joint_proximal_actuating_hinge" type="revolute">
    <parent link="robotiq_finger_2_link_0"/>
    <child link="robotiq_finger_2_link_proximal_actuating_hinge"/>
    <axis xyz="0 0 1"/>
    <origin rpy="0 0 -2.0906" xyz="0 0 0.01"/>
    <limit effort="100" lower="-3.1416" upper="3.1416" velocity="100"/>
  </joint>
  <gazebo reference="robotiq_finger_2_joint_proximal_actuating_hinge">
    <implicitSpringDamper>1</implicitSpringDamper>
  </gazebo>
  <joint name="robotiq_finger_2_joint_paraproximal_actuating_hinge" type="revolute">
    <parent link="robotiq_finger_2_link_0"/>
    <child link="robotiq_finger_2_link_paraproximal_actuating_hinge"/>
    <axis xyz="0 0 1"/>
    <origin rpy="0 0 -2.0906" xyz="0 0 -0.01"/>
    <limit effort="100" lower="-3.1416" upper="3.1416" velocity="100"/>
  </joint>
  <gazebo reference="robotiq_finger_2_joint_paraproximal_actuating_hinge">
    <implicitSpringDamper>1</implicitSpringDamper>
  </gazebo>
  <joint name="robotiq_finger_2_joint_proximal_actuating_bar" type="revolute">
    <parent link="robotiq_finger_2_link_proximal_actuating_hinge"/>
    <child link="robotiq_finger_2_link_proximal_actuating_bar"/>
    <axis xyz="0 0 1"/>
    <origin rpy="0 0 1.8616" xyz="0.02858 0 0"/>
    <limit effort="100" lower="-3.1416" upper="3.1416" velocity="100"/>
  </joint>
  <gazebo reference="robotiq_finger_2_joint_proximal_actuating_bar">
    <implicitSpringDamper>1</implicitSpringDamper>
  </gazebo>
  <joint name="robotiq_finger_2_joint_paraproximal_bar" type="revolute">
    <parent link="robotiq_finger_2_link_paraproximal_actuating_hinge"/>
    <child link="robotiq_finger_2_link_paraproximal_bar"/>
    <axis xyz="0 0 1"/>
    <origin rpy="0 0 1.57" xyz="0.02286 0 0"/>
    <limit effort="100" lower="-3.1416" upper="3.1416" velocity="100"/>
  </joint>
  <gazebo reference="robotiq_finger_2_joint_paraproximal_bar">
    <implicitSpringDamper>1</implicitSpringDamper>
  </gazebo>
  <joint name="robotiq_finger_2_joint_median_actuating_hinge" type="revolute">
    <parent link="robotiq_finger_2_link_1"/>
    <child link="robotiq_finger_2_link_median_actuating_hinge"/>
    <axis xyz="0 0 1"/>
    <origin rpy="0 0 -0.37" xyz="0 0.05715 0.01"/>
    <limit effort="100" lower="-3.1416" upper="3.1416" velocity="100"/>
  </joint>
  <gazebo reference="robotiq_finger_2_joint_median_actuating_hinge">
    <implicitSpringDamper>1</implicitSpringDamper>
  </gazebo>
  <joint name="robotiq_finger_2_joint_paramedian_hinge" type="revolute">
    <parent link="robotiq_finger_2_link_1"/>
    <child link="robotiq_finger_2_link_paramedian_hinge"/>
    <axis xyz="0 0 1"/>
    <!-- -0.37 is hand picked, 0.9719 is hand calculated from atan(0.02381/0.01625) -->
    <origin rpy="0 0 0" xyz="0 0.05715 -0.01"/>
    <limit effort="100" lower="-3.1416" upper="3.1416" velocity="100"/>
  </joint>
  <gazebo reference="robotiq_finger_2_joint_paramedian_hinge">
    <implicitSpringDamper>1</implicitSpringDamper>
  </gazebo>
  <joint name="robotiq_finger_2_joint_median_actuating_hinge_median_bar" type="revolute">
    <parent link="robotiq_finger_2_link_median_actuating_hinge"/>
    <child link="robotiq_finger_2_link_median_bar"/>
    <axis xyz="0 0 1"/>
    <!-- hand calc 90 deg + atan(0.01516/0.01625) -->
    <origin rpy="0 0 2.3215" xyz="0.01625 0.01516 0"/>
    <limit effort="100" lower="-3.1416" upper="3.1416" velocity="100"/>
  </joint>
  <gazebo reference="robotiq_finger_2_joint_median_actuating_hinge_median_bar">
    <implicitSpringDamper>1</implicitSpringDamper>
  </gazebo>
  <joint name="robotiq_finger_2_joint_paradistal_hinge" type="revolute">
    <parent link="robotiq_finger_2_link_2"/>
    <child link="robotiq_finger_2_link_paradistal_hinge"/>
    <axis xyz="0 0 1"/>
    <origin rpy="0 0 0" xyz="0 0.039 -0.01"/>
    <limit effort="100" lower="-3.1416" upper="3.1416" velocity="100"/>
  </joint>
  <gazebo reference="robotiq_finger_2_joint_paradistal_hinge">
    <implicitSpringDamper>1</implicitSpringDamper>
  </gazebo>
  <joint name="robotiq_finger_2_joint_paramedian_hinge_median_bar_underactuated" type="revolute">
    <parent link="robotiq_finger_2_link_paramedian_hinge"/>
    <child link="robotiq_finger_2_link_median_bar_underactuated"/>
    <axis xyz="0 0 1"/>
    <!-- hand calc 90 deg + atan(0.01227/0.00329) -->
    <origin rpy="0 0 1.5708" xyz="0.01227 0.00329 0"/>
    <limit effort="100" lower="-3.1416" upper="3.1416" velocity="100"/>
  </joint>
  <gazebo reference="robotiq_finger_2_joint_paramedian_hinge_median_bar_underactuated">
    <implicitSpringDamper>1</implicitSpringDamper>
  </gazebo>
  <joint name="robotiq_finger_2_joint_1" type="revolute">
    <origin rpy="0 0 -2.0906" xyz="0 0 0"/>
    <axis xyz="0 0 1"/>
    <parent link="robotiq_finger_2_link_0"/>
    <child link="robotiq_finger_2_link_1"/>
    <dynamics damping="1" friction="0"/>
    <!-- Limits: [0deg.,70deg.] -->
    <limit effort="60" lower="0" upper="1.2217" velocity="-1"/>
  </joint>
  <gazebo reference="robotiq_finger_2_joint_1">
    <implicitSpringDamper>1</implicitSpringDamper>
  </gazebo>
  <joint name="robotiq_finger_2_joint_2" type="revolute">
    <parent link="robotiq_finger_2_link_1"/>
    <child link="robotiq_finger_2_link_2"/>
    <dynamics damping="1" friction="0"/>
    <axis xyz="0 0 1"/>
    <origin rpy="0 0 0" xyz="0 0.05715 0"/>
    <!-- Limits: [0deg.,90deg.] -->
    <limit effort="60" lower="0" upper="1.5708" velocity="-1"/>
  </joint>
  <gazebo reference="robotiq_finger_2_joint_2">
    <implicitSpringDamper>1</implicitSpringDamper>
  </gazebo>
  <joint name="robotiq_finger_2_joint_3" type="revolute">
    <parent link="robotiq_finger_2_link_2"/>
    <child link="robotiq_finger_2_link_3"/>
    <dynamics damping="1" friction="0"/>
    <axis xyz="0 0 1"/>
    <origin rpy="0 0 2.0906" xyz="0 0.039 0"/>
    <!-- Limits: [-38deg.,60deg.] -->
    <limit effort="60" lower="-0.6632" upper="1.0471" velocity="-1"/>
  </joint>
  <gazebo reference="robotiq_finger_2_joint_3">
    <implicitSpringDamper>1</implicitSpringDamper>
  </gazebo>
  <gazebo>
    <joint name="robotiq_finger_2_link_proximal_actuating_bar_median_actuating_hinge_couple" type="revolute">
      <parent>robotiq_finger_2_link_median_actuating_hinge</parent>
      <child>robotiq_finger_2_link_proximal_actuating_bar</child>
      <pose>0.05398 0 0 0 0 0</pose>
      <axis>
        <dynamics>
          <damping>0</damping>
          <friction>0</friction>
        </dynamics>
        <xyz>0 0 1</xyz>
        <!-- <use_parent_model_frame>false</use_parent_model_frame> -->
      </axis>
    </joint>
  </gazebo>
  <gazebo reference="robotiq_finger_2_link_proximal_actuating_bar_median_actuating_hinge_couple">
    <implicitSpringDamper>1</implicitSpringDamper>
  </gazebo>
  <gazebo>
    <joint name="robotiq_finger_2_link_median_bar_link_3_couple" type="revolute">
      <parent>robotiq_finger_2_link_3</parent>
      <child>robotiq_finger_2_link_median_bar</child>
      <pose>0.0381 0 0 0 0 0</pose>
      <axis>
        <dynamics>
          <damping>0</damping>
          <friction>0</friction>
        </dynamics>
        <xyz>0 0 1</xyz>
        <!-- <use_parent_model_frame>false</use_parent_model_frame> -->
      </axis>
    </joint>
  </gazebo>
  <gazebo reference="robotiq_finger_2_link_median_bar_link_3_couple">
    <implicitSpringDamper>1</implicitSpringDamper>
  </gazebo>
  <gazebo>
    <joint name="robotiq_finger_2_link_paramedian_bar_paradistal_hinge_couple" type="revolute">
      <parent>robotiq_finger_2_link_paradistal_hinge</parent>
      <child>robotiq_finger_2_link_median_bar_underactuated</child>
      <pose>0.0381 0 0 0 0 0</pose>
      <axis>
        <dynamics>
          <damping>0</damping>
          <friction>0</friction>
        </dynamics>
        <xyz>0 0 1</xyz>
        <!-- <use_parent_model_frame>false</use_parent_model_frame> -->
      </axis>
    </joint>
  </gazebo>
  <gazebo reference="robotiq_finger_2_link_median_bar_link_3_couple">
    <implicitSpringDamper>1</implicitSpringDamper>
  </gazebo>
  <gazebo>
    <joint name="robotiq_finger_2_link_paradistal_hinge_link_3_couple" type="revolute">
      <parent>robotiq_finger_2_link_paradistal_hinge</parent>
      <child>robotiq_finger_2_link_3</child>
      <pose>0.0381 0 0 0 0 0</pose>
      <axis>
        <dynamics>
          <damping>0</damping>
          <friction>0</friction>
        </dynamics>
        <xyz>0 0 1</xyz>
        <!-- <use_parent_model_frame>false</use_parent_model_frame> -->
      </axis>
    </joint>
  </gazebo>
  <gazebo reference="robotiq_finger_2_link_paradistal_hinge_link_3_couple">
    <implicitSpringDamper>1</implicitSpringDamper>
  </gazebo>
  <gazebo>
    <joint name="robotiq_finger_2_link_paraproximal_bar_paramedian_hinge_couple" type="revolute">
      <parent>robotiq_finger_2_link_paramedian_hinge</parent>
      <child>robotiq_finger_2_link_paraproximal_bar</child>
      <pose>0.05770 0 0 0 0 0</pose>
      <axis>
        <dynamics>
          <damping>0</damping>
          <friction>0</friction>
        </dynamics>
        <xyz>0 0 1</xyz>
        <!-- <use_parent_model_frame>false</use_parent_model_frame> -->
      </axis>
    </joint>
  </gazebo>
  <gazebo reference="robotiq_finger_2_link_paraproximal_bar_paramedian_hinge_couple">
    <implicitSpringDamper>1</implicitSpringDamper>
  </gazebo>
  <link name="robotiq_finger_middle_link_0">
    <visual>
      <origin rpy="0 0 0" xyz="0 0 0"/>
      <geometry>
        <mesh filename="package://robotiq_s_model_visualization/meshes/s-model_articulated/visual/link_0.STL"/>
      </geometry>
      <material name="green">
        <color rgba="0 1 0 1"/>
      </material>
    </visual>
    <collision>
      <origin rpy="0 0 0" xyz="0 0 0"/>
      <geometry>
        <mesh filename="package://robotiq_s_model_visualization/meshes/s-model_articulated/collision/link_0.STL"/>
      </geometry>
      <material name="yellow">
        <color rgba="0 1 1 1"/>
      </material>
    </collision>
    <inertial>
      <mass value="0.1"/>
      <origin xyz="-0.01 0 0"/>
      <inertia ixx="0.000018" ixy="0" ixz="0" iyy="0.000025" iyz="0" izz="0.000025"/>
    </inertial>
  </link>
  <gazebo reference="robotiq_finger_middle_link_0">
    <mu1>1.1</mu1>
    <mu2>1.1</mu2>
  </gazebo>
  <link name="robotiq_finger_middle_link_1">
    <visual>
      <origin rpy="0 0 1.5708" xyz="0 0.05717 0"/>
      <geometry>
        <mesh filename="package://robotiq_s_model_visualization/meshes/s-model_articulated/visual/link_1.STL"/>
      </geometry>
      <material name="green"/>
    </visual>
    <collision>
      <origin rpy="0 0 1.5708" xyz="0 0.05717 0"/>
      <geometry>
        <mesh filename="package://robotiq_s_model_visualization/meshes/s-model_articulated/collision/link_1.STL"/>
      </geometry>
      <material name="yellow">
        <color rgba="0 1 1 1"/>
      </material>
    </collision>
    <inertial>
      <origin rpy="0 0 1.5708" xyz="0.00053 0.03218 0"/>
      <mass value="0.047"/>
      <inertia ixx="0.00000499332" ixy="0.00000091312" ixz="-0.00000000120" iyy="0.00006434531" iyz="-0.00000000007" izz="0.00006061917"/>
    </inertial>
  </link>
  <gazebo reference="robotiq_finger_middle_link_1">
    <mu1>1.1</mu1>
    <mu2>1.1</mu2>
  </gazebo>
  <link name="robotiq_finger_middle_link_2">
    <visual>
      <origin rpy="0 0 1.5708" xyz="0 0.03810 0.0075"/>
      <geometry>
        <mesh filename="package://robotiq_s_model_visualization/meshes/s-model_articulated/visual/link_2.STL"/>
      </geometry>
      <material name="green"/>
    </visual>
    <collision>
      <origin rpy="0 0 1.5708" xyz="0 0.03810 0.0075"/>
      <geometry>
        <mesh filename="package://robotiq_s_model_visualization/meshes/s-model_articulated/collision/link_2.STL"/>
      </geometry>
      <material name="yellow"/>
    </collision>
    <inertial>
      <origin rpy="0 0 1.5708" xyz="0.00048 0.02167 0.00018"/>
      <mass value="0.03284"/>
      <inertia ixx="0.00000348008" ixy="0.00000031940" ixz="0.00000013041" iyy="0.00002248123" iyz="0.00000000291" izz="0.00001986346"/>
    </inertial>
  </link>
  <gazebo reference="robotiq_finger_middle_link_2">
    <mu1>1.1</mu1>
    <mu2>1.1</mu2>
  </gazebo>
  <link name="robotiq_finger_middle_link_3">
    <visual>
      <origin rpy="0 0 0" xyz="0 0 0"/>
      <geometry>
        <mesh filename="package://robotiq_s_model_visualization/meshes/s-model_articulated/visual/link_3.STL"/>
      </geometry>
      <material name="green"/>
    </visual>
    <collision>
      <origin rpy="0 0 0" xyz="0 0 0"/>
      <geometry>
        <mesh filename="package://robotiq_s_model_visualization/meshes/s-model_articulated/collision/link_3.STL"/>
      </geometry>
      <material name="yellow"/>
    </collision>
    <inertial>
      <origin rpy="0 0 0" xyz="0.01626 0.00049 0.0002"/>
      <mass value="0.03354"/>
      <inertia ixx="0.00000305151" ixy="0.00000089792" ixz="0.00000000249" iyy="0.00001427978" iyz="-0.00000001191" izz="0.00001264126"/>
    </inertial>
  </link>
  <gazebo reference="robotiq_finger_middle_link_3">
    <mu1>1.1</mu1>
    <mu2>1.1</mu2>
  </gazebo>
  <link name="robotiq_finger_middle_link_proximal_actuating_hinge">
    <visual>
      <origin rpy="0 0 0" xyz="0.01429 0 0"/>
      <geometry>
        <box size="0.02858 .0075 .002"/>
      </geometry>
    </visual>
    <collision>
      <origin rpy="0 0 0" xyz="0.01429 0 0"/>
      <geometry>
        <box size="0.02858 .0075 .002"/>
      </geometry>
    </collision>
    <inertial>
      <origin rpy="0 0 0" xyz="0.0012 -0.00162 -0.00161"/>
      <mass value="0.02647"/>
      <inertia ixx="0.00000156447" ixy="0.000000236226" ixz="-0.00000014862" iyy="0.00000221068" iyz="-0.00000014369" izz="0.00000323175"/>
    </inertial>
  </link>
  <gazebo reference="robotiq_finger_middle_link_proximal_actuating_hinge">
    <mu1>1.1</mu1>
    <mu2>1.1</mu2>
  </gazebo>
  <link name="robotiq_finger_middle_link_paraproximal_actuating_hinge">
    <visual>
      <origin rpy="0 0 0" xyz="0.01143 0 0"/>
      <geometry>
        <box size="0.02286 .0075 .002"/>
      </geometry>
    </visual>
    <collision>
      <origin rpy="0 0 0" xyz="0.01143 0 0"/>
      <geometry>
        <box size="0.02286 .0075 .002"/>
      </geometry>
    </collision>
    <inertial>
      <origin rpy="0 0 0" xyz="0.0064 0 0"/>
      <!-- copied from proximal_actuating_hinge -->
      <mass value="0.00362"/>
      <inertia ixx="0.00000012043" ixy="0" ixz="0" iyy="0.00000053588" iyz="0" izz="0.00000065322"/>
    </inertial>
  </link>
  <gazebo reference="robotiq_finger_middle_link_paraproximal_actuating_hinge">
    <mu1>1.1</mu1>
    <mu2>1.1</mu2>
  </gazebo>
  <link name="robotiq_finger_middle_link_proximal_actuating_bar">
    <visual>
      <origin rpy="0 0 0" xyz="0.026789 0 0"/>
      <geometry>
        <box size="0.05398 .0075 .002"/>
      </geometry>
    </visual>
    <collision>
      <origin rpy="0 0 0" xyz="0.026789 0 0"/>
      <geometry>
        <box size="0.05398 .0075 .002"/>
      </geometry>
    </collision>
    <inertial>
      <origin rpy="0 0 0" xyz="0.02699 -0.00122 0"/>
      <mass value="0.00659"/>
      <inertia ixx="0.00000008348" ixy="-0.0000002179" ixz="0.00000000134" iyy="0.00000719076" iyz="0" izz="0.00000718272"/>
    </inertial>
  </link>
  <gazebo reference="robotiq_finger_middle_link_proximal_actuating_bar">
    <mu1>1.1</mu1>
    <mu2>1.1</mu2>
  </gazebo>
  <link name="robotiq_finger_middle_link_paraproximal_bar">
    <visual>
      <origin rpy="0 0 0" xyz="0.02885 0 0"/>
      <geometry>
        <box size="0.05770 .0075 .002"/>
      </geometry>
    </visual>
    <collision>
      <origin rpy="0 0 0" xyz="0.02885 0 0"/>
      <geometry>
        <box size="0.05770 .0075 .002"/>
      </geometry>
    </collision>
    <inertial>
      <origin rpy="0 0 0" xyz="0.02858 -0.00129 0"/>
      <mass value="0.00732"/>
      <inertia ixx="0.00000009065" ixy="-0.00000027047" ixz="0.00000000142" iyy="0.00000878034" iyz="0" izz="0.00000877558"/>
    </inertial>
  </link>
  <gazebo reference="robotiq_finger_middle_link_paraproximal_bar">
    <mu1>1.1</mu1>
    <mu2>1.1</mu2>
  </gazebo>
  <link name="robotiq_finger_middle_link_median_actuating_hinge">
    <visual>
      <origin rpy="0 0 0" xyz="0 0 0"/>
      <geometry>
        <box size=".02 .02 .002"/>
      </geometry>
    </visual>
    <collision>
      <origin rpy="0 0 0" xyz="0 0 0"/>
      <geometry>
        <box size=".02 .02 .002"/>
      </geometry>
    </collision>
    <inertial>
      <origin rpy="0 0 0" xyz="0.0092 0.00514 0"/>
      <mass value="0.00359"/>
      <inertia ixx="0.00000024735" ixy="0.00000023619" ixz="0" iyy="0.00000047681" iyz="0" izz="0.00000071813"/>
    </inertial>
  </link>
  <gazebo reference="robotiq_finger_middle_link_median_actuating_hinge">
    <mu1>1.1</mu1>
    <mu2>1.1</mu2>
  </gazebo>
  <link name="robotiq_finger_middle_link_median_bar">
    <visual>
      <origin rpy="0 0 0" xyz="0.01905 0 0"/>
      <geometry>
        <box size="0.0381 .0075 .002"/>
      </geometry>
    </visual>
    <collision>
      <origin rpy="0 0 0" xyz="0.01905 0 0"/>
      <geometry>
        <box size="0.0381 .0075 .002"/>
      </geometry>
    </collision>
    <inertial>
      <origin rpy="0 0 0" xyz="0.01905 -0.00107 0"/>
      <mass value="0.00538"/>
      <inertia ixx="0.00000006639" ixy="-0.00000010996" ixz="0.00000000094" iyy="0.00000305318" iyz="0" izz="0.00000304657"/>
    </inertial>
  </link>
  <gazebo reference="robotiq_finger_middle_link_median_bar">
    <mu1>1.1</mu1>
    <mu2>1.1</mu2>
  </gazebo>
  <link name="robotiq_finger_middle_link_paramedian_hinge">
    <visual>
      <origin rpy="0 0 0" xyz="0 0 0"/>
      <geometry>
        <box size=".02 .02 .002"/>
      </geometry>
    </visual>
    <collision>
      <origin rpy="0 0 0" xyz="0 0 0"/>
      <geometry>
        <box size=".02 .02 .002"/>
      </geometry>
    </collision>
    <inertial>
      <origin rpy="0 0 0" xyz="-0.01025 0.00046 0"/>
      <mass value="0.00276"/>
      <inertia ixx="0.00000004213" ixy="-0.00000001491" ixz="0" iyy="0.00000050258" iyz="0" izz="0.00000054007"/>
    </inertial>
  </link>
  <gazebo reference="robotiq_finger_middle_link_paramedian_hinge">
    <mu1>1.1</mu1>
    <mu2>1.1</mu2>
  </gazebo>
  <link name="robotiq_finger_middle_link_median_bar_underactuated">
    <visual>
      <origin rpy="0 0 0" xyz="0.01905 0 0"/>
      <geometry>
        <box size="0.0381 .0075 .002"/>
      </geometry>
    </visual>
    <collision>
      <origin rpy="0 0 0" xyz="0.01905 0 0"/>
      <geometry>
        <box size="0.0381 .0075 .002"/>
      </geometry>
    </collision>
    <inertial>
      <origin rpy="0 0 0" xyz="0.01905 -0.00107 0"/>
      <mass value="0.00538"/>
      <inertia ixx="0.00000006639" ixy="-0.00000010996" ixz="-0.00000000094" iyy="0.00000305318" iyz="0" izz="0.00000304657"/>
    </inertial>
  </link>
  <gazebo reference="robotiq_finger_middle_link_median_bar_underactuated">
    <mu1>1.1</mu1>
    <mu2>1.1</mu2>
  </gazebo>
  <link name="robotiq_finger_middle_link_paradistal_hinge">
    <visual>
      <origin rpy="0 0 0" xyz="0 0 0"/>
      <geometry>
        <box size=".02 .02 .002"/>
      </geometry>
    </visual>
    <collision>
      <origin rpy="0 0 0" xyz="0 0 0"/>
      <geometry>
        <box size=".02 0.02 .002"/>
      </geometry>
    </collision>
    <inertial>
      <origin rpy="0 0 0" xyz="0.00548 0 0"/>
      <mass value="0.00158"/>
      <inertia ixx="0.00000001907" ixy="0" ixz="0" iyy="0.00000010970" iyz="0" izz="0.00000012610"/>
    </inertial>
  </link>
  <gazebo reference="robotiq_finger_middle_link_paradistal_hinge">
    <mu1>1.1</mu1>
    <mu2>1.1</mu2>
  </gazebo>
  <joint name="robotiq_finger_middle_joint_proximal_actuating_hinge" type="revolute">
    <parent link="robotiq_finger_middle_link_0"/>
    <child link="robotiq_finger_middle_link_proximal_actuating_hinge"/>
    <axis xyz="0 0 1"/>
    <origin rpy="0 0 -2.0906" xyz="0 0 0.01"/>
    <limit effort="100" lower="-3.1416" upper="3.1416" velocity="100"/>
  </joint>
  <gazebo reference="robotiq_finger_middle_joint_proximal_actuating_hinge">
    <implicitSpringDamper>1</implicitSpringDamper>
  </gazebo>
  <joint name="robotiq_finger_middle_joint_paraproximal_actuating_hinge" type="revolute">
    <parent link="robotiq_finger_middle_link_0"/>
    <child link="robotiq_finger_middle_link_paraproximal_actuating_hinge"/>
    <axis xyz="0 0 1"/>
    <origin rpy="0 0 -2.0906" xyz="0 0 -0.01"/>
    <limit effort="100" lower="-3.1416" upper="3.1416" velocity="100"/>
  </joint>
  <gazebo reference="robotiq_finger_middle_joint_paraproximal_actuating_hinge">
    <implicitSpringDamper>1</implicitSpringDamper>
  </gazebo>
  <joint name="robotiq_finger_middle_joint_proximal_actuating_bar" type="revolute">
    <parent link="robotiq_finger_middle_link_proximal_actuating_hinge"/>
    <child link="robotiq_finger_middle_link_proximal_actuating_bar"/>
    <axis xyz="0 0 1"/>
    <origin rpy="0 0 1.8616" xyz="0.02858 0 0"/>
    <limit effort="100" lower="-3.1416" upper="3.1416" velocity="100"/>
  </joint>
  <gazebo reference="robotiq_finger_middle_joint_proximal_actuating_bar">
    <implicitSpringDamper>1</implicitSpringDamper>
  </gazebo>
  <joint name="robotiq_finger_middle_joint_paraproximal_bar" type="revolute">
    <parent link="robotiq_finger_middle_link_paraproximal_actuating_hinge"/>
    <child link="robotiq_finger_middle_link_paraproximal_bar"/>
    <axis xyz="0 0 1"/>
    <origin rpy="0 0 1.57" xyz="0.02286 0 0"/>
    <limit effort="100" lower="-3.1416" upper="3.1416" velocity="100"/>
  </joint>
  <gazebo reference="robotiq_finger_middle_joint_paraproximal_bar">
    <implicitSpringDamper>1</implicitSpringDamper>
  </gazebo>
  <joint name="robotiq_finger_middle_joint_median_actuating_hinge" type="revolute">
    <parent link="robotiq_finger_middle_link_1"/>
    <child link="robotiq_finger_middle_link_median_actuating_hinge"/>
    <axis xyz="0 0 1"/>
    <origin rpy="0 0 -0.37" xyz="0 0.05715 0.01"/>
    <limit effort="100" lower="-3.1416" upper="3.1416" velocity="100"/>
  </joint>
  <gazebo reference="robotiq_finger_middle_joint_median_actuating_hinge">
    <implicitSpringDamper>1</implicitSpringDamper>
  </gazebo>
  <joint name="robotiq_finger_middle_joint_paramedian_hinge" type="revolute">
    <parent link="robotiq_finger_middle_link_1"/>
    <child link="robotiq_finger_middle_link_paramedian_hinge"/>
    <axis xyz="0 0 1"/>
    <!-- -0.37 is hand picked, 0.9719 is hand calculated from atan(0.02381/0.01625) -->
    <origin rpy="0 0 0" xyz="0 0.05715 -0.01"/>
    <limit effort="100" lower="-3.1416" upper="3.1416" velocity="100"/>
  </joint>
  <gazebo reference="robotiq_finger_middle_joint_paramedian_hinge">
    <implicitSpringDamper>1</implicitSpringDamper>
  </gazebo>
  <joint name="robotiq_finger_middle_joint_median_actuating_hinge_median_bar" type="revolute">
    <parent link="robotiq_finger_middle_link_median_actuating_hinge"/>
    <child link="robotiq_finger_middle_link_median_bar"/>
    <axis xyz="0 0 1"/>
    <!-- hand calc 90 deg + atan(0.01516/0.01625) -->
    <origin rpy="0 0 2.3215" xyz="0.01625 0.01516 0"/>
    <limit effort="100" lower="-3.1416" upper="3.1416" velocity="100"/>
  </joint>
  <gazebo reference="robotiq_finger_middle_joint_median_actuating_hinge_median_bar">
    <implicitSpringDamper>1</implicitSpringDamper>
  </gazebo>
  <joint name="robotiq_finger_middle_joint_paradistal_hinge" type="revolute">
    <parent link="robotiq_finger_middle_link_2"/>
    <child link="robotiq_finger_middle_link_paradistal_hinge"/>
    <axis xyz="0 0 1"/>
    <origin rpy="0 0 0" xyz="0 0.039 -0.01"/>
    <limit effort="100" lower="-3.1416" upper="3.1416" velocity="100"/>
  </joint>
  <gazebo reference="robotiq_finger_middle_joint_paradistal_hinge">
    <implicitSpringDamper>1</implicitSpringDamper>
  </gazebo>
  <joint name="robotiq_finger_middle_joint_paramedian_hinge_median_bar_underactuated" type="revolute">
    <parent link="robotiq_finger_middle_link_paramedian_hinge"/>
    <child link="robotiq_finger_middle_link_median_bar_underactuated"/>
    <axis xyz="0 0 1"/>
    <!-- hand calc 90 deg + atan(0.01227/0.00329) -->
    <origin rpy="0 0 1.5708" xyz="0.01227 0.00329 0"/>
    <limit effort="100" lower="-3.1416" upper="3.1416" velocity="100"/>
  </joint>
  <gazebo reference="robotiq_finger_middle_joint_paramedian_hinge_median_bar_underactuated">
    <implicitSpringDamper>1</implicitSpringDamper>
  </gazebo>
  <joint name="robotiq_finger_middle_joint_1" type="revolute">
    <origin rpy="0 0 -2.0906" xyz="0 0 0"/>
    <axis xyz="0 0 1"/>
    <parent link="robotiq_finger_middle_link_0"/>
    <child link="robotiq_finger_middle_link_1"/>
    <dynamics damping="1" friction="0"/>
    <!-- Limits: [0deg.,70deg.] -->
    <limit effort="60" lower="0" upper="1.2217" velocity="-1"/>
  </joint>
  <gazebo reference="robotiq_finger_middle_joint_1">
    <implicitSpringDamper>1</implicitSpringDamper>
  </gazebo>
  <joint name="robotiq_finger_middle_joint_2" type="revolute">
    <parent link="robotiq_finger_middle_link_1"/>
    <child link="robotiq_finger_middle_link_2"/>
    <dynamics damping="1" friction="0"/>
    <axis xyz="0 0 1"/>
    <origin rpy="0 0 0" xyz="0 0.05715 0"/>
    <!-- Limits: [0deg.,90deg.] -->
    <limit effort="60" lower="0" upper="1.5708" velocity="-1"/>
  </joint>
  <gazebo reference="robotiq_finger_middle_joint_2">
    <implicitSpringDamper>1</implicitSpringDamper>
  </gazebo>
  <joint name="robotiq_finger_middle_joint_3" type="revolute">
    <parent link="robotiq_finger_middle_link_2"/>
    <child link="robotiq_finger_middle_link_3"/>
    <dynamics damping="1" friction="0"/>
    <axis xyz="0 0 1"/>
    <origin rpy="0 0 2.0906" xyz="0 0.039 0"/>
    <!-- Limits: [-38deg.,60deg.] -->
    <limit effort="60" lower="-0.6632" upper="1.0471" velocity="-1"/>
  </joint>
  <gazebo reference="robotiq_finger_middle_joint_3">
    <implicitSpringDamper>1</implicitSpringDamper>
  </gazebo>
  <gazebo>
    <joint name="robotiq_finger_middle_link_proximal_actuating_bar_median_actuating_hinge_couple" type="revolute">
      <parent>robotiq_finger_middle_link_median_actuating_hinge</parent>
      <child>robotiq_finger_middle_link_proximal_actuating_bar</child>
      <pose>0.05398 0 0 0 0 0</pose>
      <axis>
        <dynamics>
          <damping>0</damping>
          <friction>0</friction>
        </dynamics>
        <xyz>0 0 1</xyz>
        <!-- <use_parent_model_frame>false</use_parent_model_frame> -->
      </axis>
    </joint>
  </gazebo>
  <gazebo reference="robotiq_finger_middle_link_proximal_actuating_bar_median_actuating_hinge_couple">
    <implicitSpringDamper>1</implicitSpringDamper>
  </gazebo>
  <gazebo>
    <joint name="robotiq_finger_middle_link_median_bar_link_3_couple" type="revolute">
      <parent>robotiq_finger_middle_link_3</parent>
      <child>robotiq_finger_middle_link_median_bar</child>
      <pose>0.0381 0 0 0 0 0</pose>
      <axis>
        <dynamics>
          <damping>0</damping>
          <friction>0</friction>
        </dynamics>
        <xyz>0 0 1</xyz>
        <!-- <use_parent_model_frame>false</use_parent_model_frame> -->
      </axis>
    </joint>
  </gazebo>
  <gazebo reference="robotiq_finger_middle_link_median_bar_link_3_couple">
    <implicitSpringDamper>1</implicitSpringDamper>
  </gazebo>
  <gazebo>
    <joint name="robotiq_finger_middle_link_paramedian_bar_paradistal_hinge_couple" type="revolute">
      <parent>robotiq_finger_middle_link_paradistal_hinge</parent>
      <child>robotiq_finger_middle_link_median_bar_underactuated</child>
      <pose>0.0381 0 0 0 0 0</pose>
      <axis>
        <dynamics>
          <damping>0</damping>
          <friction>0</friction>
        </dynamics>
        <xyz>0 0 1</xyz>
        <!-- <use_parent_model_frame>false</use_parent_model_frame> -->
      </axis>
    </joint>
  </gazebo>
  <gazebo reference="robotiq_finger_middle_link_median_bar_link_3_couple">
    <implicitSpringDamper>1</implicitSpringDamper>
  </gazebo>
  <gazebo>
    <joint name="robotiq_finger_middle_link_paradistal_hinge_link_3_couple" type="revolute">
      <parent>robotiq_finger_middle_link_paradistal_hinge</parent>
      <child>robotiq_finger_middle_link_3</child>
      <pose>0.0381 0 0 0 0 0</pose>
      <axis>
        <dynamics>
          <damping>0</damping>
          <friction>0</friction>
        </dynamics>
        <xyz>0 0 1</xyz>
        <!-- <use_parent_model_frame>false</use_parent_model_frame> -->
      </axis>
    </joint>
  </gazebo>
  <gazebo reference="robotiq_finger_middle_link_paradistal_hinge_link_3_couple">
    <implicitSpringDamper>1</implicitSpringDamper>
  </gazebo>
  <gazebo>
    <joint name="robotiq_finger_middle_link_paraproximal_bar_paramedian_hinge_couple" type="revolute">
      <parent>robotiq_finger_middle_link_paramedian_hinge</parent>
      <child>robotiq_finger_middle_link_paraproximal_bar</child>
      <pose>0.05770 0 0 0 0 0</pose>
      <axis>
        <dynamics>
          <damping>0</damping>
          <friction>0</friction>
        </dynamics>
        <xyz>0 0 1</xyz>
        <!-- <use_parent_model_frame>false</use_parent_model_frame> -->
      </axis>
    </joint>
  </gazebo>
  <gazebo reference="robotiq_finger_middle_link_paraproximal_bar_paramedian_hinge_couple">
    <implicitSpringDamper>1</implicitSpringDamper>
  </gazebo>
  <link name="robotiq_palm">
    <visual>
      <geometry>
        <mesh filename="package://robotiq_s_model_visualization/meshes/s-model_articulated/visual/palm.STL"/>
      </geometry>
      <material name="green">
        <color rgba="0 1 0 1"/>
      </material>
    </visual>
    <!-- Simple shape collision -->
    <collision>
      <origin rpy="0 0 0" xyz="0 0 0"/>
      <geometry>
        <box size="0.1 0.1 0.1"/>
      </geometry>
      <material name="yellow">
        <color rgba="0 1 1 1"/>
      </material>
    </collision>
    <inertial>
      <origin rpy="0 0 0" xyz="0 0 0"/>
      <mass value="1.3"/>
      <inertia ixx="0.0035" ixy="0" ixz="-0" iyy="0.0035" iyz="0" izz="0.0035"/>
    </inertial>
  </link>
  <gazebo reference="robotiq_palm">
    <mu1>1.1</mu1>
    <mu2>1.1</mu2>
  </gazebo>
  <joint name="robotiq_palm_finger_1_joint" type="revolute">
    <parent link="robotiq_palm"/>
    <child link="robotiq_finger_1_link_0"/>
    <dynamics damping="1" friction="0"/>
    <axis xyz="0 1 0"/>
    <origin rpy="0 3.1416 -1.57" xyz="-0.0455 0.0214 0.036"/>
    <!-- Limits: [-17deg.,17deg.] -->
    <limit effort="60" lower="-0.2967" upper="0.2967" velocity="-1"/>
  </joint>
  <gazebo reference="robotiq_palm_finger_1_joint">
    <implicitSpringDamper>1</implicitSpringDamper>
  </gazebo>
  <joint name="robotiq_palm_finger_2_joint" type="revolute">
    <parent link="robotiq_palm"/>
    <child link="robotiq_finger_2_link_0"/>
    <dynamics damping="1" friction="0"/>
    <axis xyz="0 1 0"/>
    <origin rpy="0 3.1416 -1.57" xyz="-0.0455 0.0214 -0.036"/>
    <!-- Limits: [-17deg.,17deg.] -->
    <limit effort="60" lower="-0.2967" upper="0.2967" velocity="-1"/>
  </joint>
  <gazebo reference="robotiq_palm_finger_2_joint">
    <implicitSpringDamper>1</implicitSpringDamper>
  </gazebo>
  <joint name="robotiq_palm_finger_middle_joint" type="revolute">
    <parent link="robotiq_palm"/>
    <child link="robotiq_finger_middle_link_0"/>
    <dynamics damping="1" friction="0"/>
    <axis xyz="0 1 0"/>
    <origin rpy="0 0 1.57" xyz="0.0455 0.0214 0"/>
    <limit effort="60" lower="0" upper="0" velocity="-1"/>
  </joint>
  <gazebo reference="robotiq_palm_finger_middle_joint">
    <implicitSpringDamper>1</implicitSpringDamper>
  </gazebo>
</robot>
